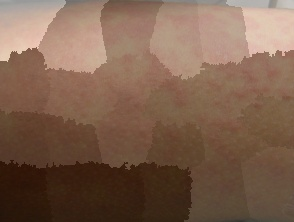SJS-TEN: (1, 8, 294, 189)
